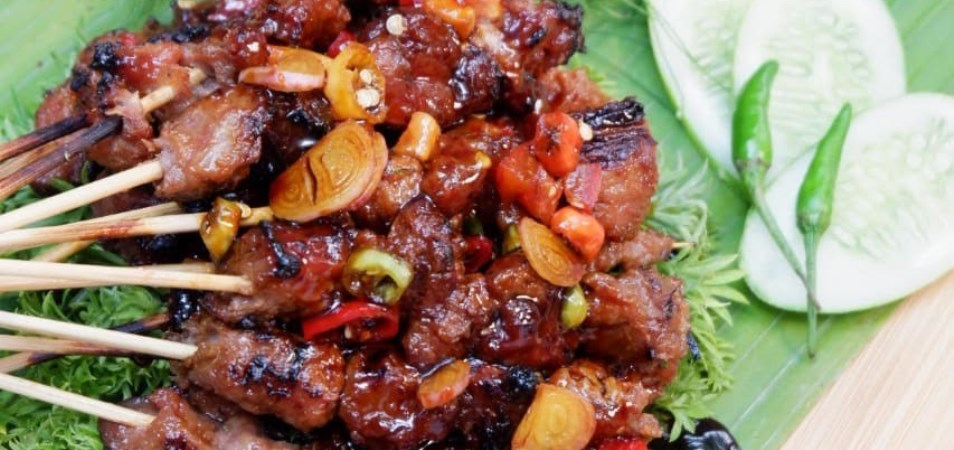sate: (34, 11, 729, 450)
